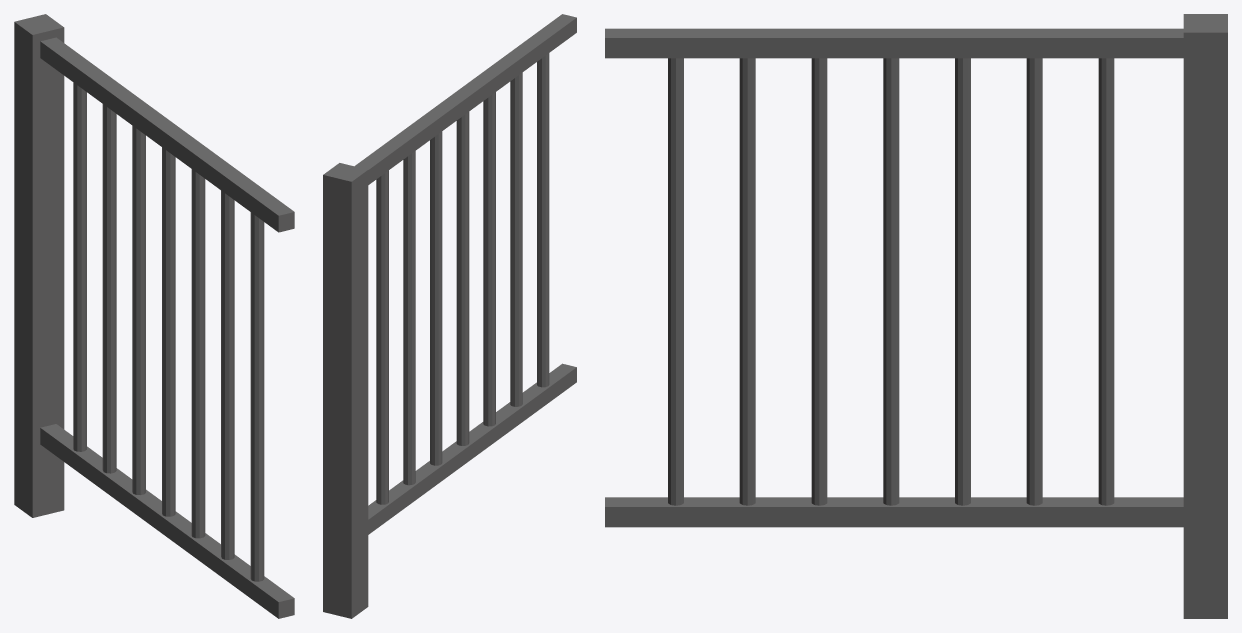
The model's file is barierka.fbx.
The picture shows the model from 3 angles, left to right: view 1: azimuth 30°, elevation 25°; view 2: azimuth 150°, elevation 25°; view 3: azimuth 270°, elevation 25°; orthographic projection. The views are drawn at different scales.
Visible parts, largest first — view 1: Cylinder.001; view 2: Cylinder.001; view 3: Cylinder.001.
Part boxes in pixels (left/top/right/bottom): Cylinder.001: left=14, top=14, right=294, bottom=618; Cylinder.001: left=323, top=14, right=576, bottom=618; Cylinder.001: left=605, top=14, right=1227, bottom=618.
Size of the model in its own units: 239 by 17.03 by 249.
